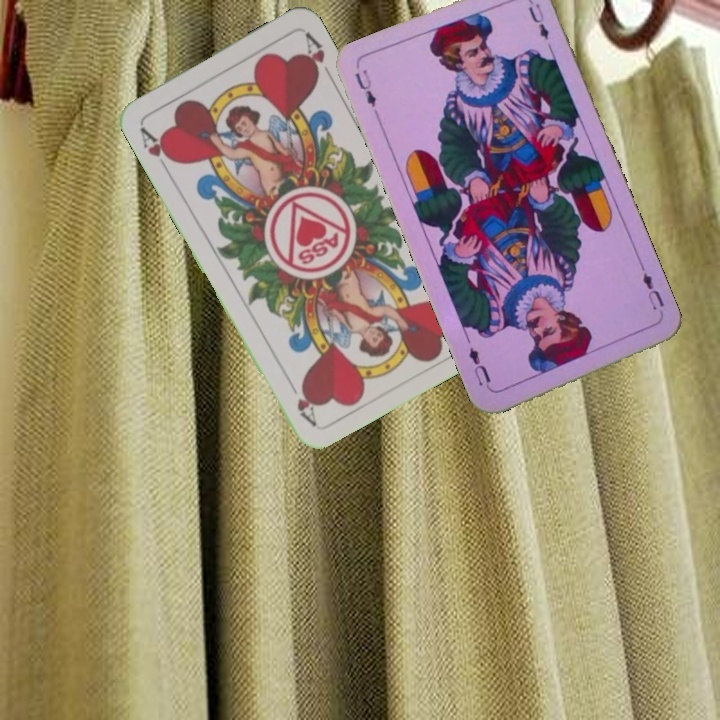EU: (351, 65, 379, 110), (638, 269, 667, 312)
HA: (136, 123, 179, 166)
